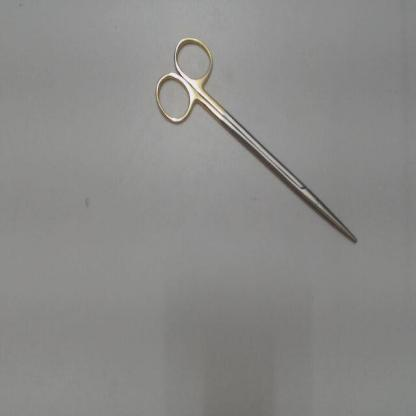7 Metzenbaum Scissors: (152, 30, 360, 250)
